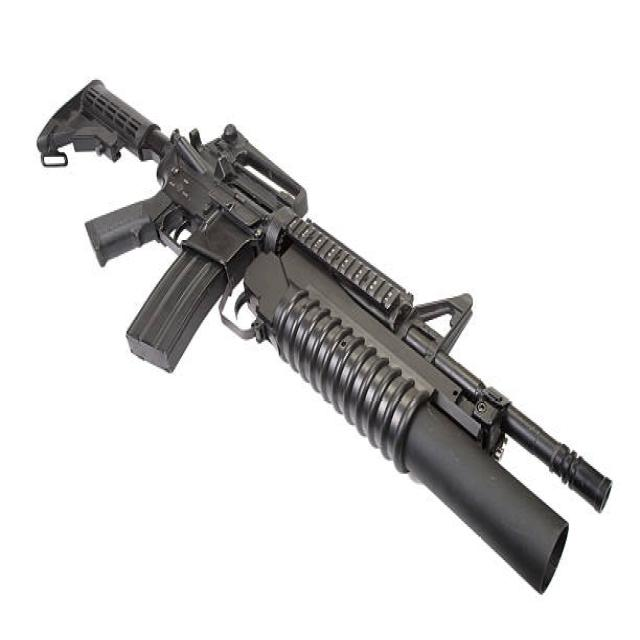rifle: (34, 62, 624, 609)
